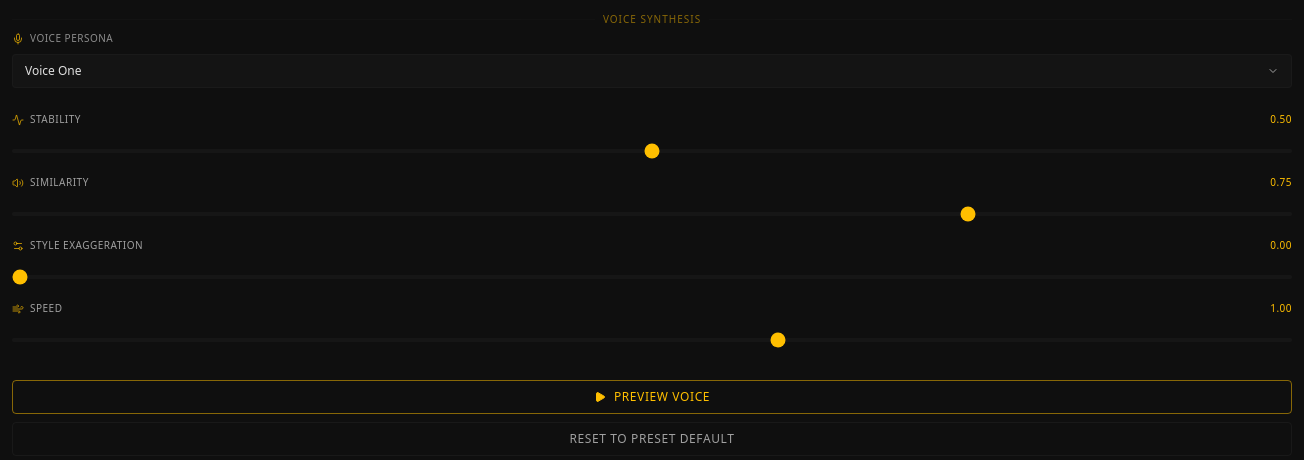
Test: VoiceCustomization › renders voices after fetch
The width and height of the screenshot is (1304, 460).
Open dropdown
Step 1. Click the button "Voice One" → (53, 70), box [12,54,1292,88]
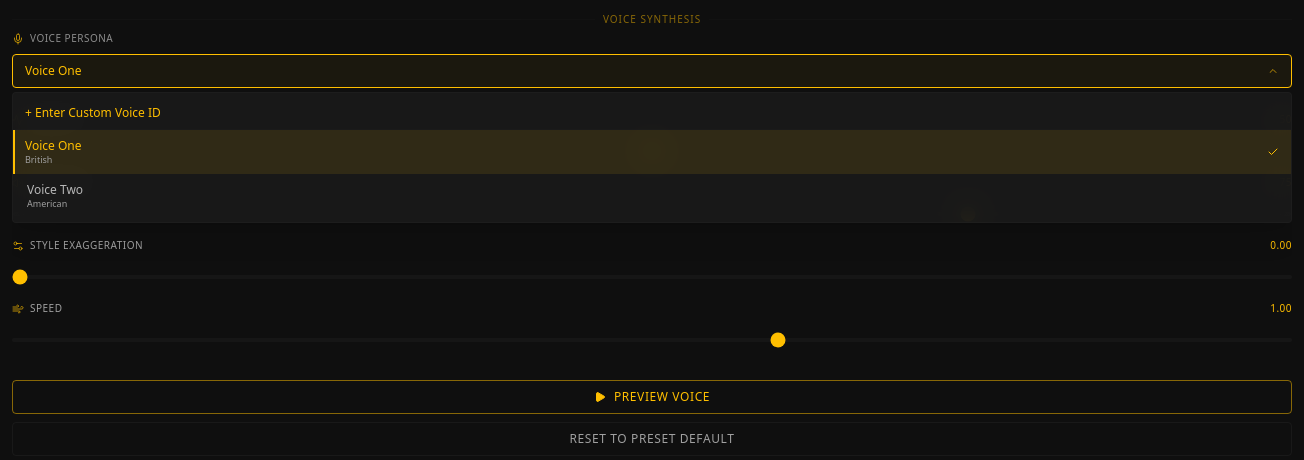
expect the text "Voice Two" is shown: met, box [27,182,83,198]
